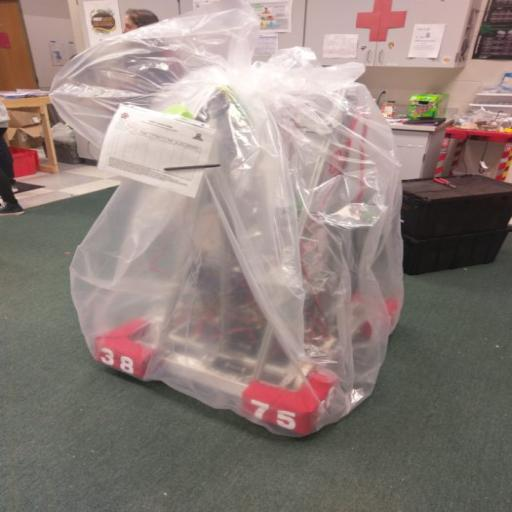robot: (82, 19, 402, 443)
